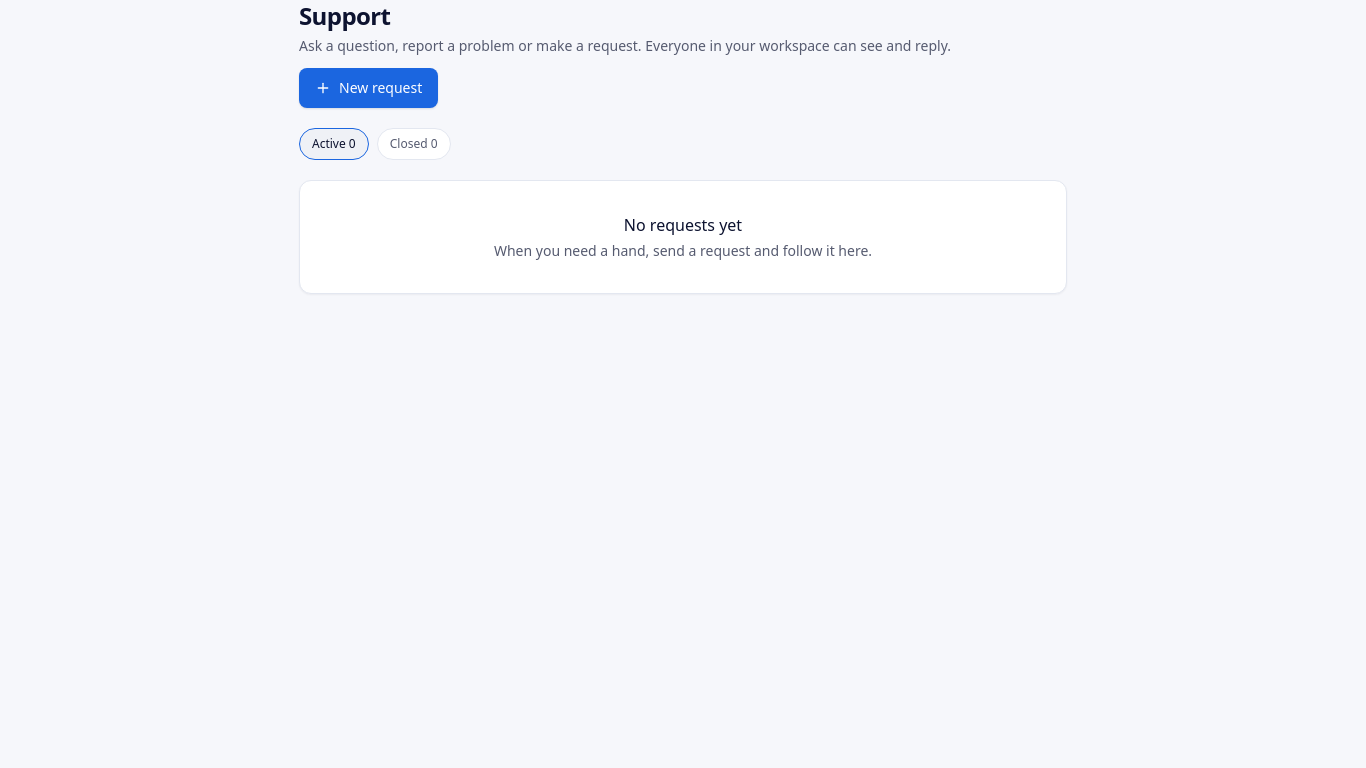
SupportCenter › shows field errors from the server and stays open
Click the button "New request": (369, 88) x1=299 y1=68 x2=438 y2=108
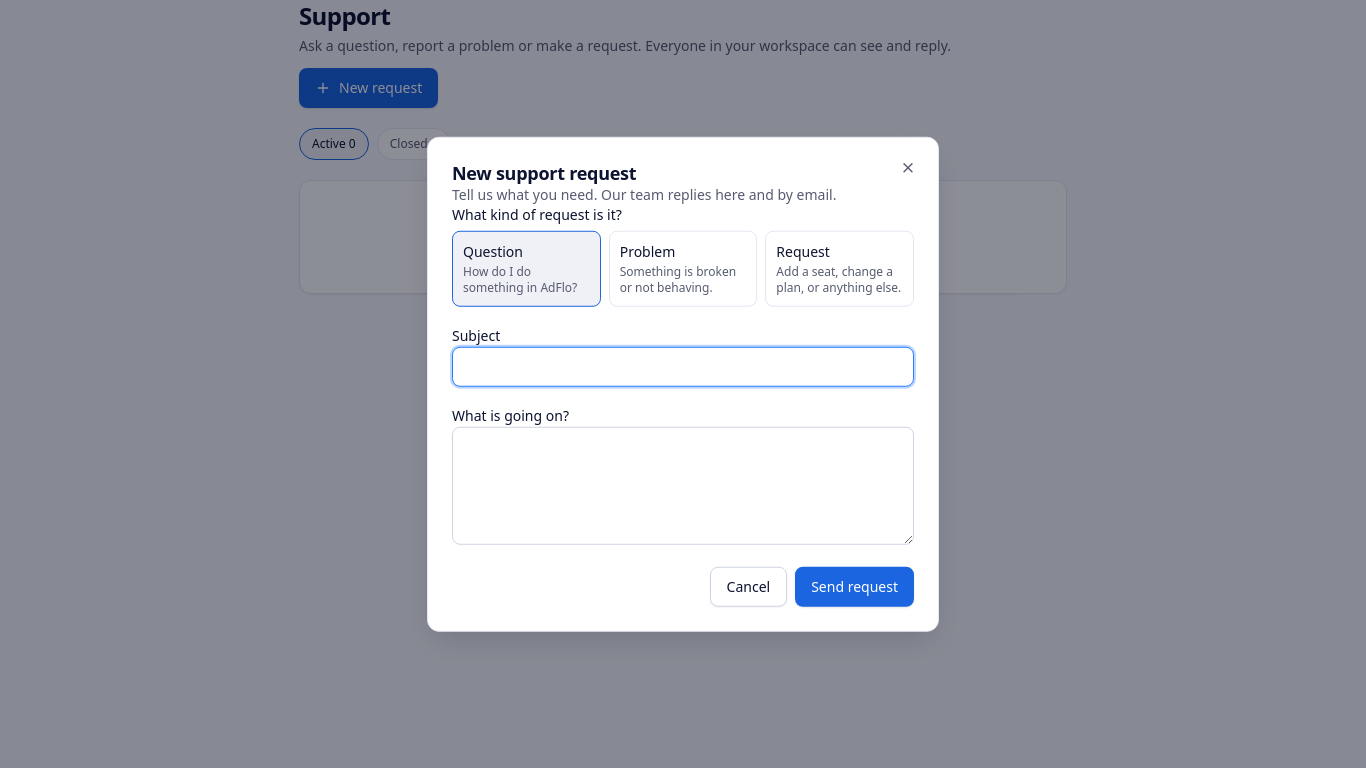
Click the button "Send request": (855, 586) x1=795 y1=566 x2=914 y2=606
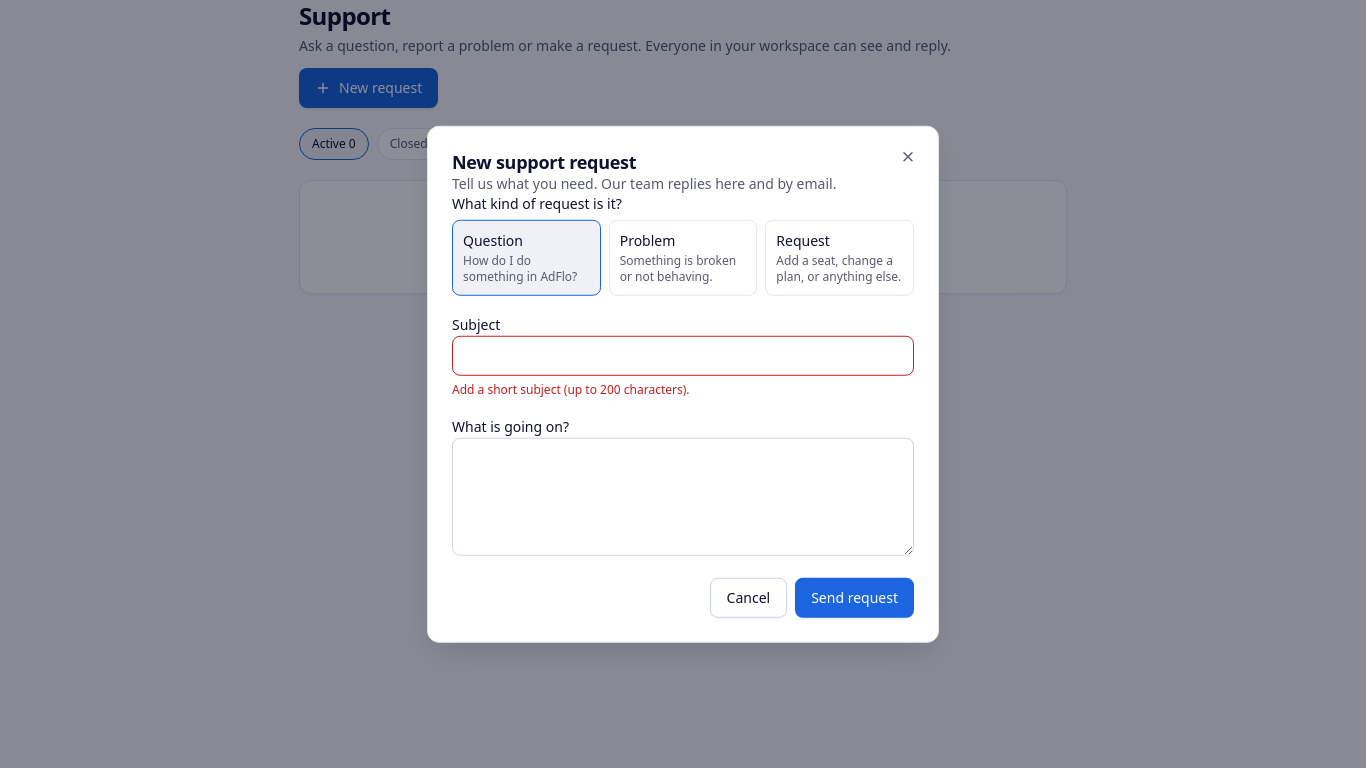
Check: the text "Add a short subject (up to 200 characters)." is shown, box x1=452 y1=380 x2=690 y2=397
